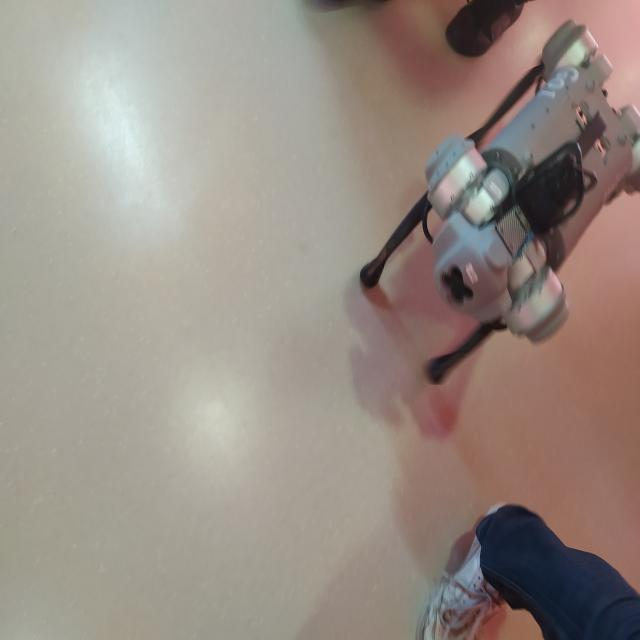unitree-go1-robot: (346, 3, 640, 410)
